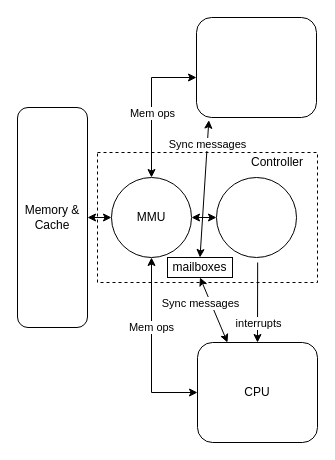
The diagram is 335 pixels wide and 460 high, and some of its shapes have lost their labels. The centre of each missing label's shape, as x and y in pixels:
"GPU array" goes at point (256, 67).
"Task Manager" goes at point (256, 217).
